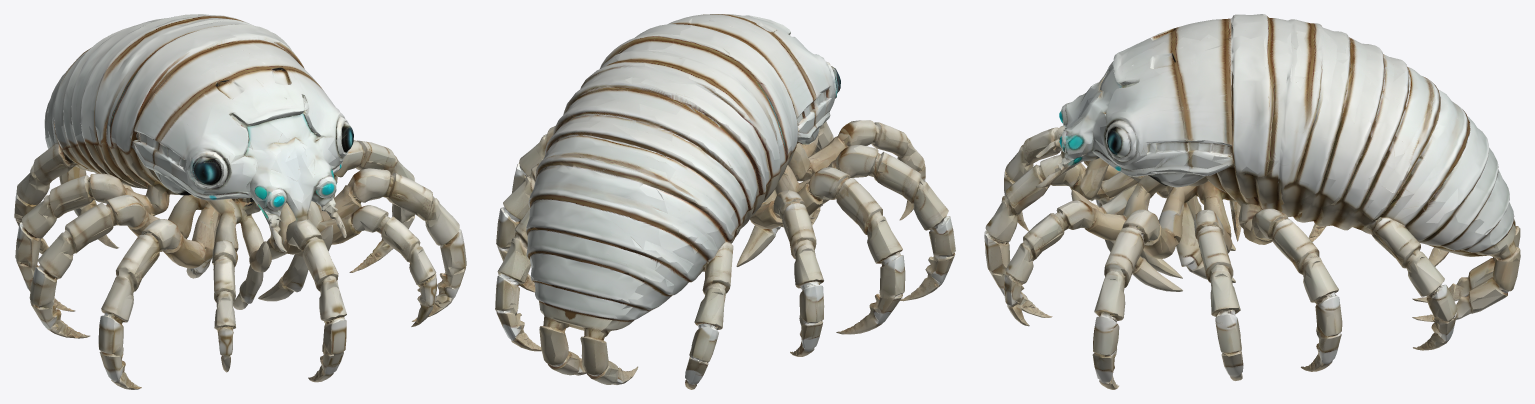
The model's file is bloom_isopod.glb.
The picture shows the model from 3 angles, left to right: view 1: azimuth 30°, elevation 25°; view 2: azimuth 150°, elevation 25°; view 3: azimuth 270°, elevation 25°; orthographic projection. The views are drawn at different scales.
Size of the model in its own units: 1.64 by 1.13 by 1.9.
Materials: 1 (1 with a texture image).
